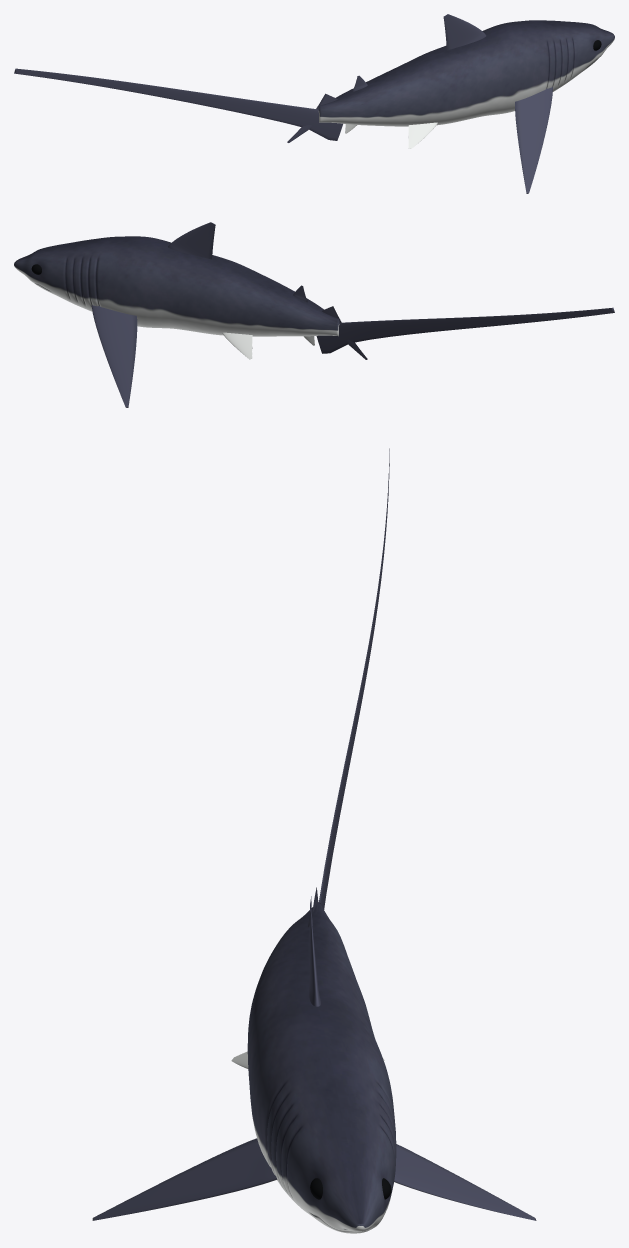
Rendered from common_thresher.glb.
3 renders of one model, top to bottom at view 1: azimuth 30°, elevation 25°; view 2: azimuth 150°, elevation 25°; view 3: azimuth 270°, elevation 25°, orthographic. The views are drawn at different scales.
Visible parts, largest first — view 1: CommonThresher_Body, CommonThresher_Fins; view 2: CommonThresher_Body, CommonThresher_Fins; view 3: CommonThresher_Body, CommonThresher_Fins.
Part boxes in pixels (<box>): CommonThresher_Body: <box>318,20,614,126</box>; CommonThresher_Fins: <box>14,14,552,193</box>; CommonThresher_Body: <box>14,236,339,336</box>; CommonThresher_Fins: <box>91,222,614,407</box>; CommonThresher_Body: <box>247,902,396,1233</box>; CommonThresher_Fins: <box>92,448,536,1220</box>.
Bounding box in the file's own units: 4.5 × 1.29 × 1.46.
Materials: 3 (1 with a texture image).
